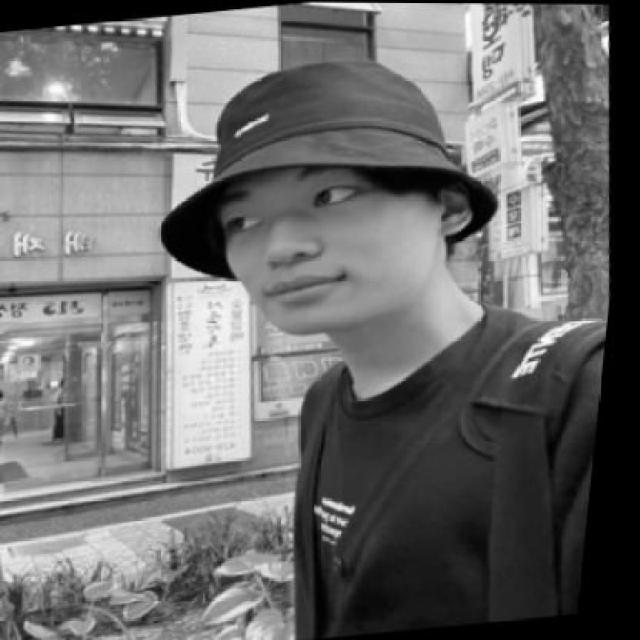hat: (148, 41, 522, 278)
